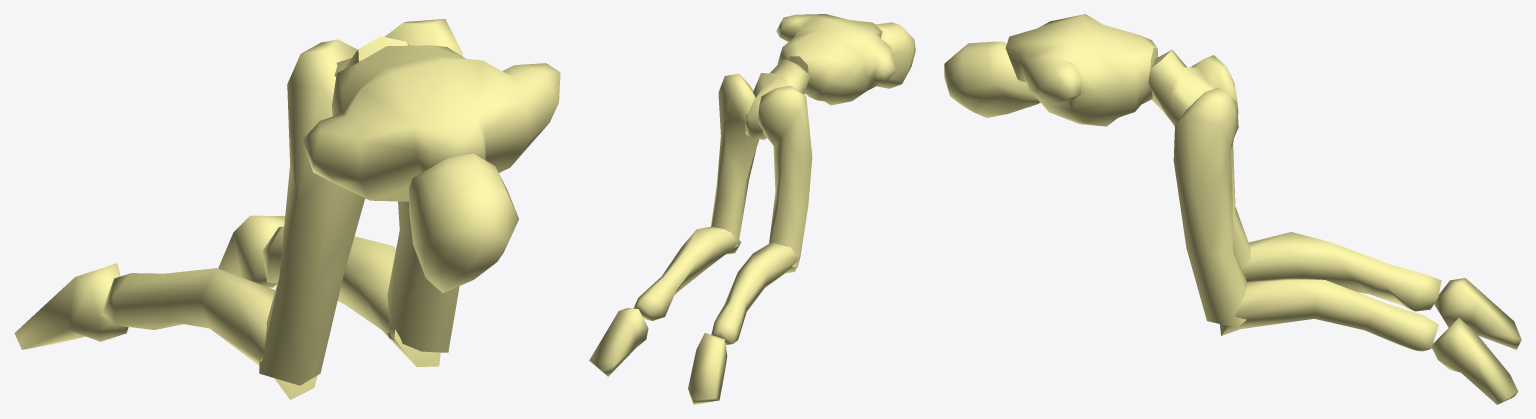
File: filth42.obj
3 views of the same model, side by side, from view 1: azimuth 30°, elevation 25°; view 2: azimuth 150°, elevation 25°; view 3: azimuth 270°, elevation 25° (orthographic). The views are drawn at different scales.
Visible parts, largest first — view 1: Melee_Husk; view 2: Melee_Husk; view 3: Melee_Husk.
Part boxes in pixels (left/top/right/bottom): Melee_Husk: left=14, top=19, right=560, bottom=399; Melee_Husk: left=589, top=14, right=915, bottom=404; Melee_Husk: left=944, top=14, right=1521, bottom=404.
Size of the model in its own units: 24.8 by 42.24 by 64.74.
